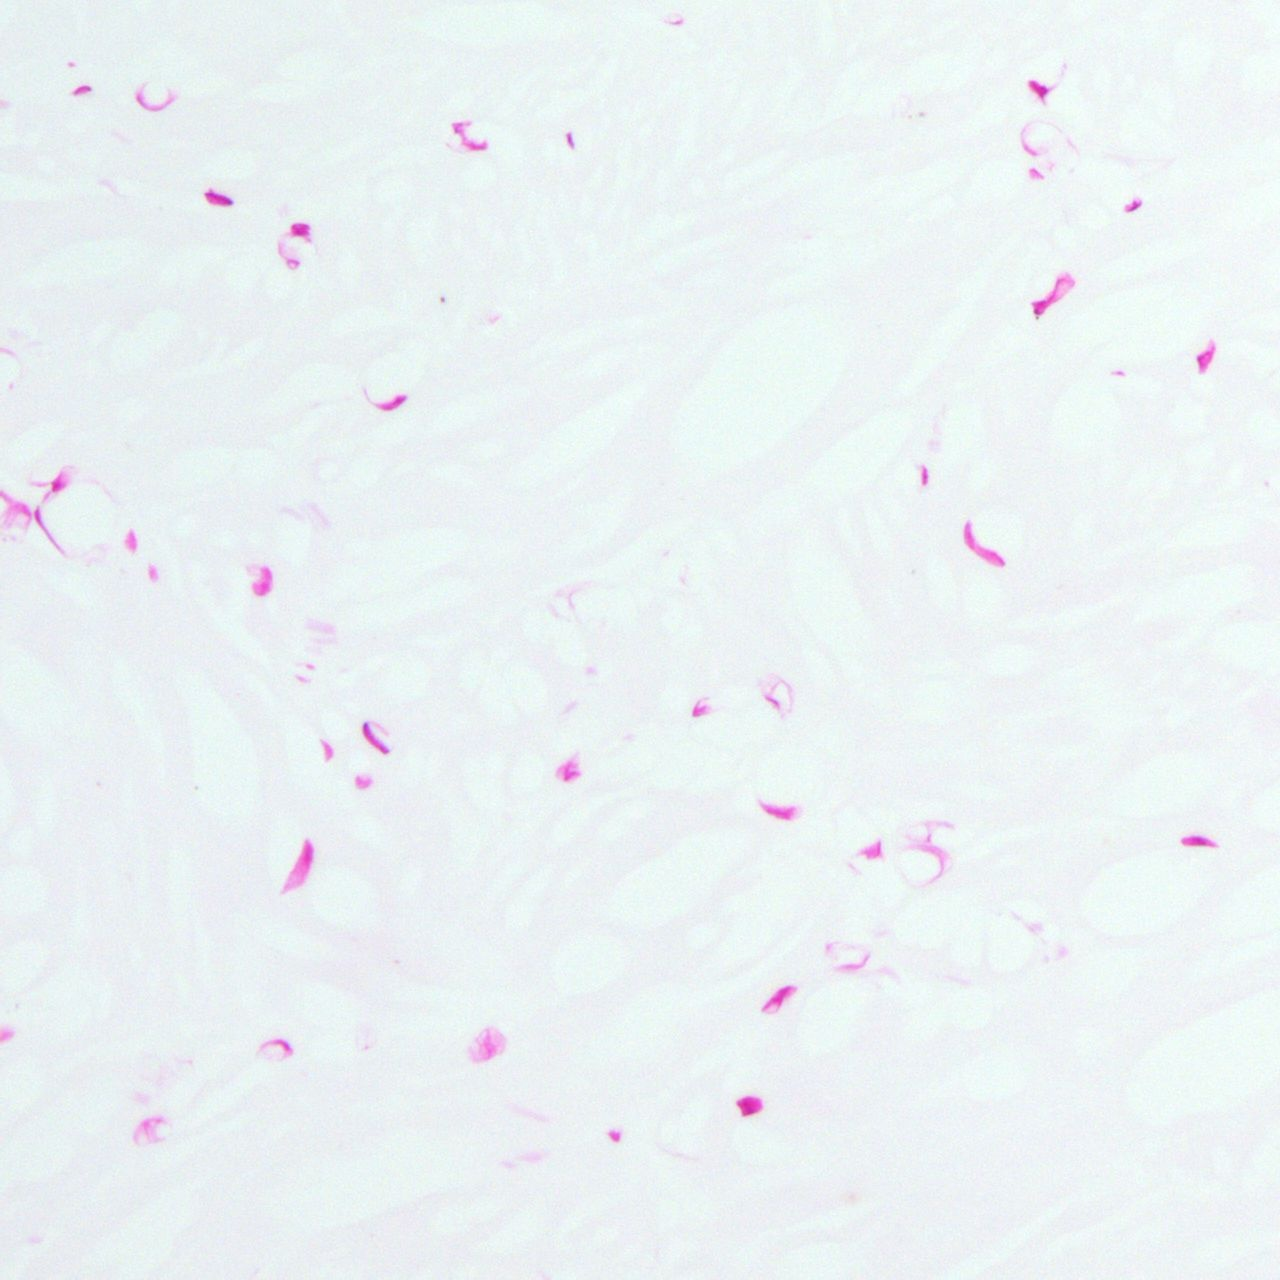nucleus-FG: (278, 838, 324, 901), (1024, 268, 1078, 318), (761, 978, 797, 1017), (358, 720, 392, 758), (1191, 335, 1218, 376), (758, 799, 797, 821), (377, 390, 409, 416), (202, 188, 234, 210), (251, 565, 272, 595), (556, 757, 581, 782), (736, 1094, 764, 1116), (858, 836, 881, 859), (1121, 195, 1144, 215), (1180, 835, 1217, 846), (69, 82, 93, 98), (290, 222, 309, 236)
